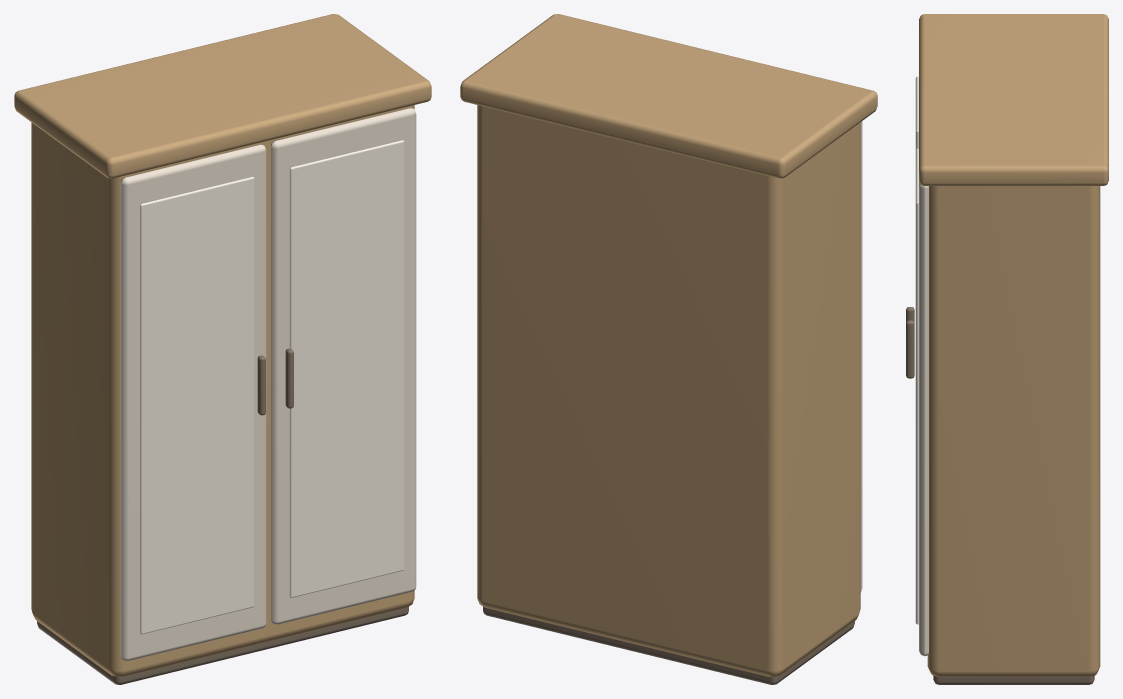
The model's file is wardrobe.glb.
3 renders of one model, left to right at view 1: azimuth 30°, elevation 25°; view 2: azimuth 150°, elevation 25°; view 3: azimuth 270°, elevation 25°, orthographic.
Parts seen in each view (by area): view 1: body, panel_1, panel_-1, cornice, door_1, door_-1, plinth; view 2: body, cornice, plinth, door_-1; view 3: body, cornice, door_1, panel_1, plinth, handle_1.
Boxes of the visible parts, x1,y1,x2,y2 form: body: (31, 105, 414, 676); panel_1: (289, 140, 404, 597); panel_-1: (140, 176, 254, 634); cornice: (14, 14, 431, 178); door_1: (270, 108, 416, 624); door_-1: (120, 144, 266, 660); plinth: (37, 607, 408, 684); body: (477, 105, 860, 676); cornice: (460, 14, 877, 178); plinth: (483, 607, 854, 684); door_-1: (860, 121, 862, 592); body: (927, 186, 1100, 677); cornice: (919, 14, 1108, 185); door_1: (919, 181, 928, 656); panel_1: (915, 148, 918, 624); plinth: (933, 675, 1094, 684); handle_1: (906, 320, 914, 378).
Size of the model in its own units: 1.28 by 2.02 by 0.705.
